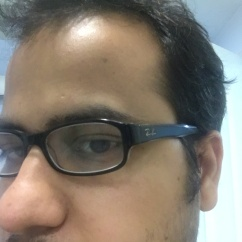glasses: (3, 114, 186, 181)
